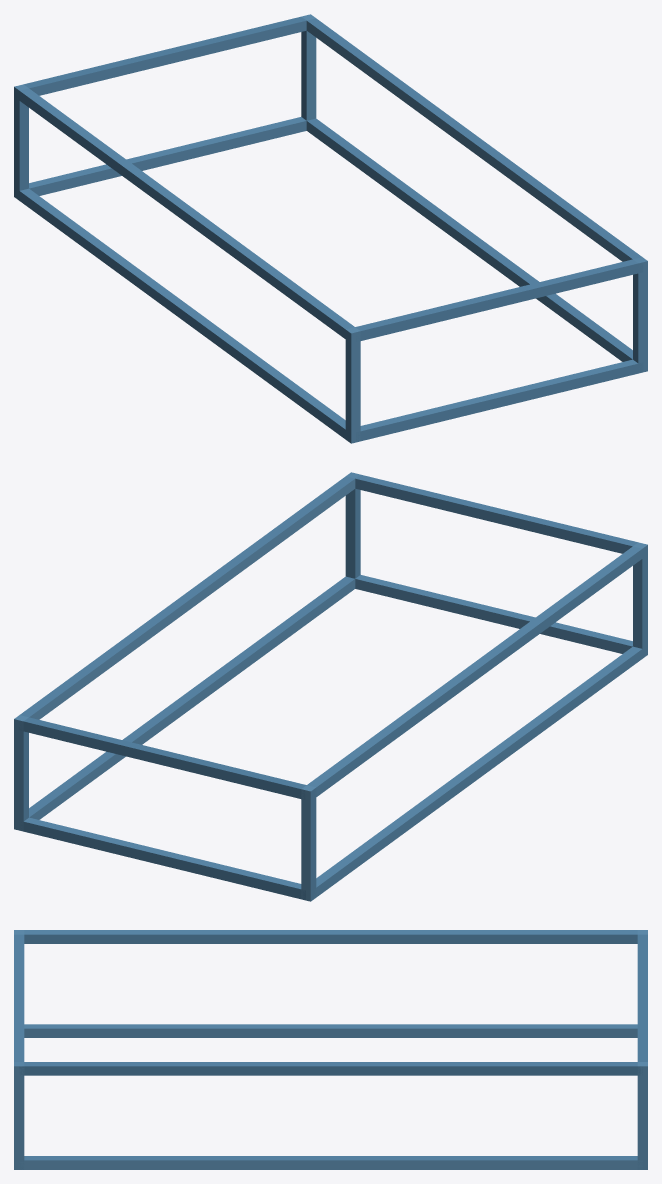
File: Blueprint_Bed_a.fbx
3 renders of one model, top to bottom at view 1: azimuth 30°, elevation 25°; view 2: azimuth 150°, elevation 25°; view 3: azimuth 270°, elevation 25°, orthographic. The views are drawn at different scales.
Parts seen in each view (by area): view 1: Blueprint_Bed_a; view 2: Blueprint_Bed_a; view 3: Blueprint_Bed_a.
Boxes of the visible parts, box(x1,y1,x2,y2) form: Blueprint_Bed_a: box(14, 14, 647, 443); Blueprint_Bed_a: box(14, 472, 647, 901); Blueprint_Bed_a: box(14, 930, 647, 1169).
Size of what is drawn, in the model's own units: 0.93 by 0.33 by 1.83.
